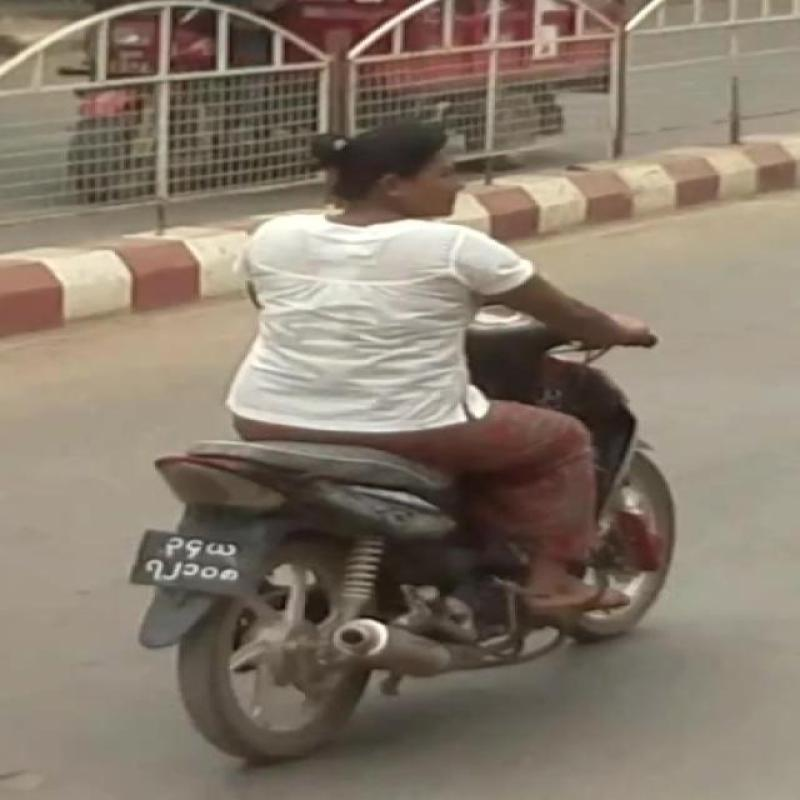nohelmet: (278, 86, 511, 236)
